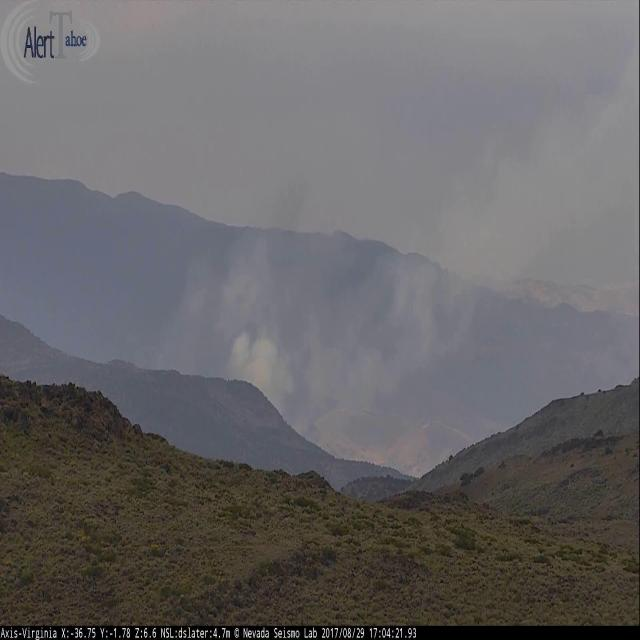smoke: (157, 51, 640, 462)
